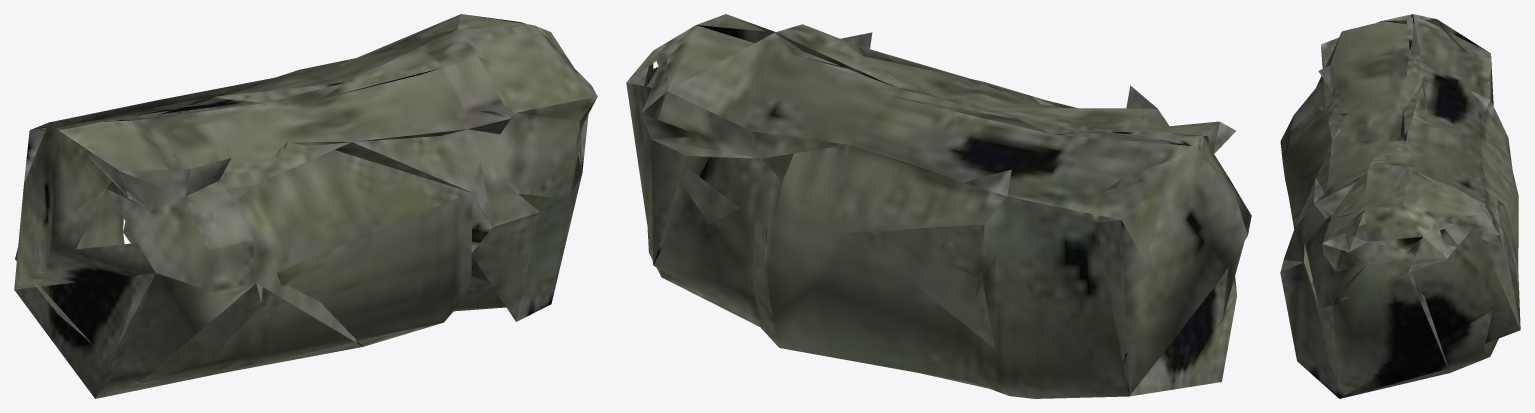
Rendered from sandbags_823108390_lod1.glb.
3 renders of one model, left to right at view 1: azimuth 30°, elevation 25°; view 2: azimuth 150°, elevation 25°; view 3: azimuth 270°, elevation 25°, orthographic. The views are drawn at different scales.
Bounding box in the file's own units: 2.59 × 1.2 × 1.22.
Materials: 1 (1 with a texture image).
